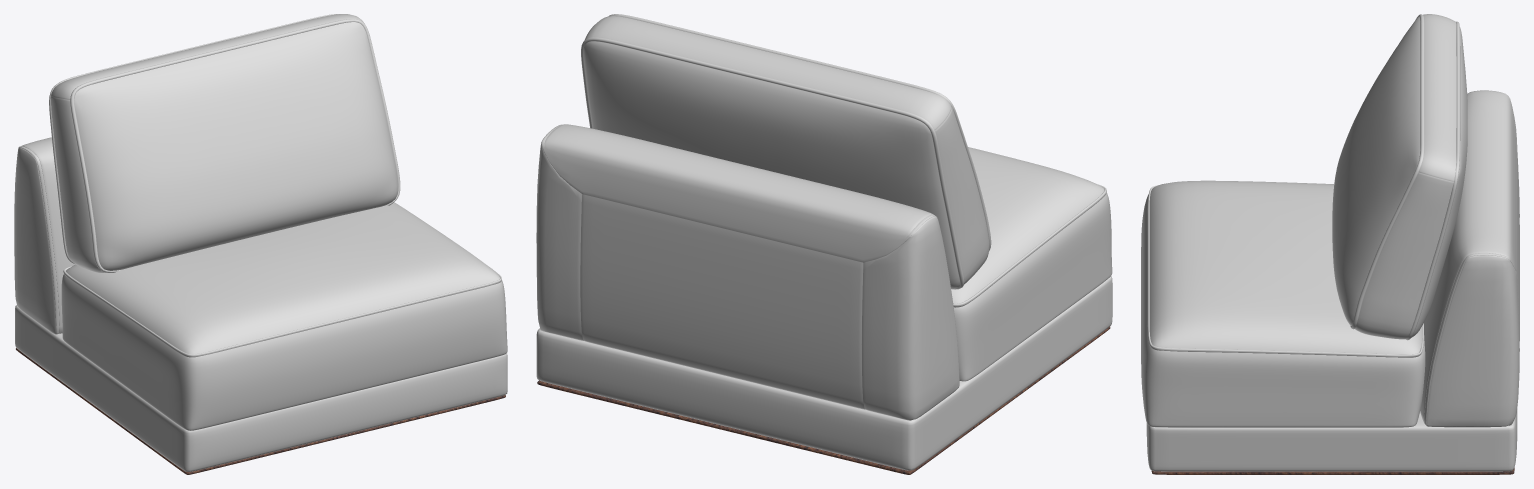
The model's file is ST_HILKER_DORTMUND_1.5 STR_WITHOUT_ARM.glb.
3 views of the same model, side by side, from view 1: azimuth 30°, elevation 25°; view 2: azimuth 150°, elevation 25°; view 3: azimuth 270°, elevation 25° (orthographic). The views are drawn at different scales.
Parts seen in each view (by area): view 1: ST_HILKER_DORTMUND_1.5 STR_WITHOUT_ARM; view 2: ST_HILKER_DORTMUND_1.5 STR_WITHOUT_ARM; view 3: ST_HILKER_DORTMUND_1.5 STR_WITHOUT_ARM.
Part boxes in pixels (x1,y1,x2,y2): ST_HILKER_DORTMUND_1.5 STR_WITHOUT_ARM: (14,14,507,474); ST_HILKER_DORTMUND_1.5 STR_WITHOUT_ARM: (536,14,1112,474); ST_HILKER_DORTMUND_1.5 STR_WITHOUT_ARM: (1141,14,1519,474).
Bounding box in the file's own units: 1.02 × 0.8975 × 0.9657.
Materials: 3 (1 with a texture image).
